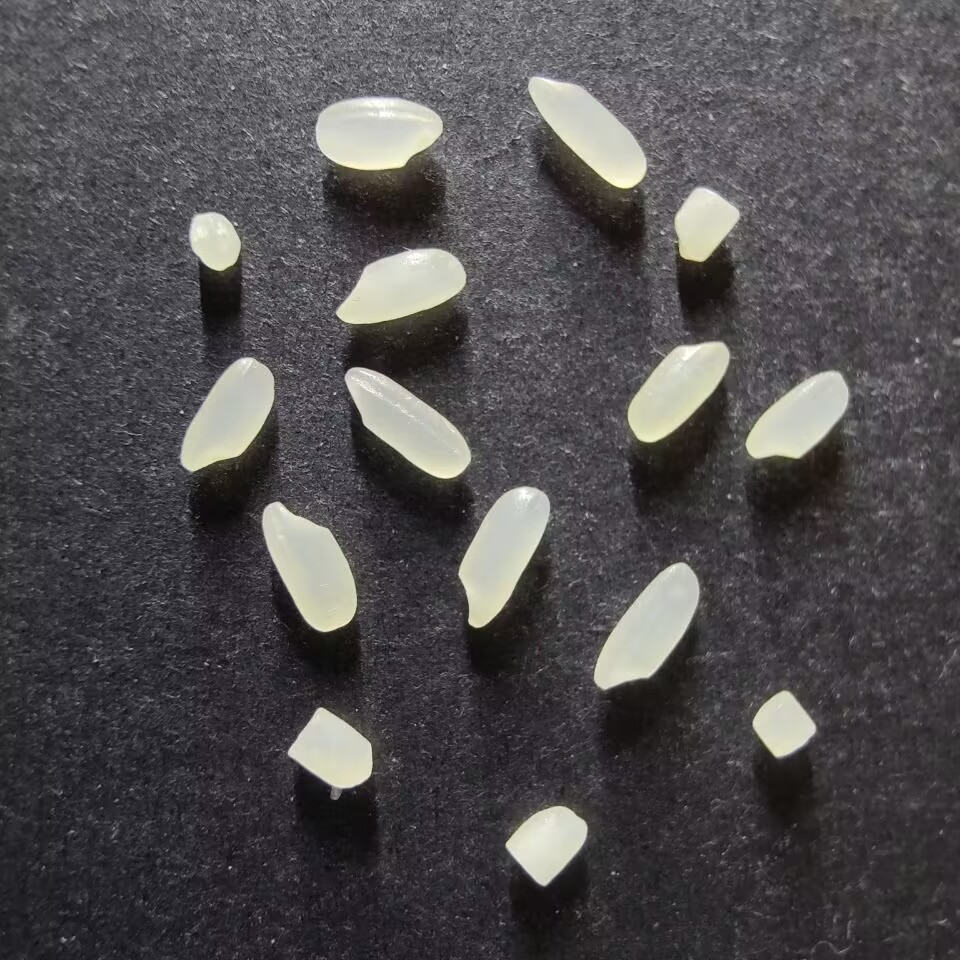broken: (285, 705, 374, 789), (504, 804, 588, 887), (672, 185, 740, 262), (750, 689, 816, 758), (189, 210, 242, 273)
rice: (343, 364, 470, 480), (592, 561, 700, 691), (527, 74, 648, 189), (457, 485, 550, 629), (262, 499, 359, 635), (180, 355, 276, 473), (625, 340, 730, 443), (336, 247, 467, 326), (744, 368, 850, 461), (314, 96, 443, 170)
